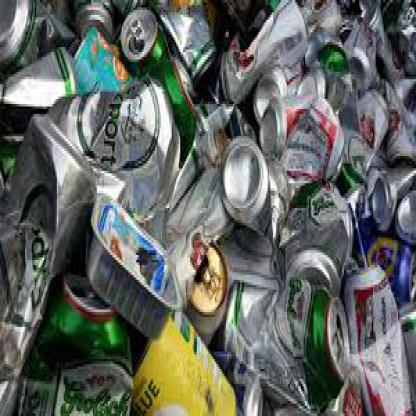METAL: (0, 0, 415, 414), (0, 109, 96, 413), (44, 70, 179, 230), (222, 275, 349, 413), (15, 270, 130, 413), (84, 191, 181, 334), (132, 294, 237, 414), (121, 5, 194, 173), (341, 260, 415, 414), (0, 39, 74, 176), (186, 99, 254, 230), (219, 0, 308, 99), (274, 178, 351, 290), (221, 128, 287, 248), (141, 0, 214, 82), (350, 210, 414, 300), (278, 97, 342, 183), (180, 238, 228, 339), (0, 0, 78, 62), (69, 25, 140, 89), (342, 84, 387, 181), (209, 344, 262, 414), (366, 161, 415, 230), (363, 3, 405, 82), (254, 64, 322, 109), (382, 80, 414, 168), (342, 17, 382, 84), (295, 67, 355, 106), (72, 0, 122, 42), (309, 0, 365, 30), (337, 158, 365, 210), (392, 188, 414, 240), (402, 18, 415, 80)
